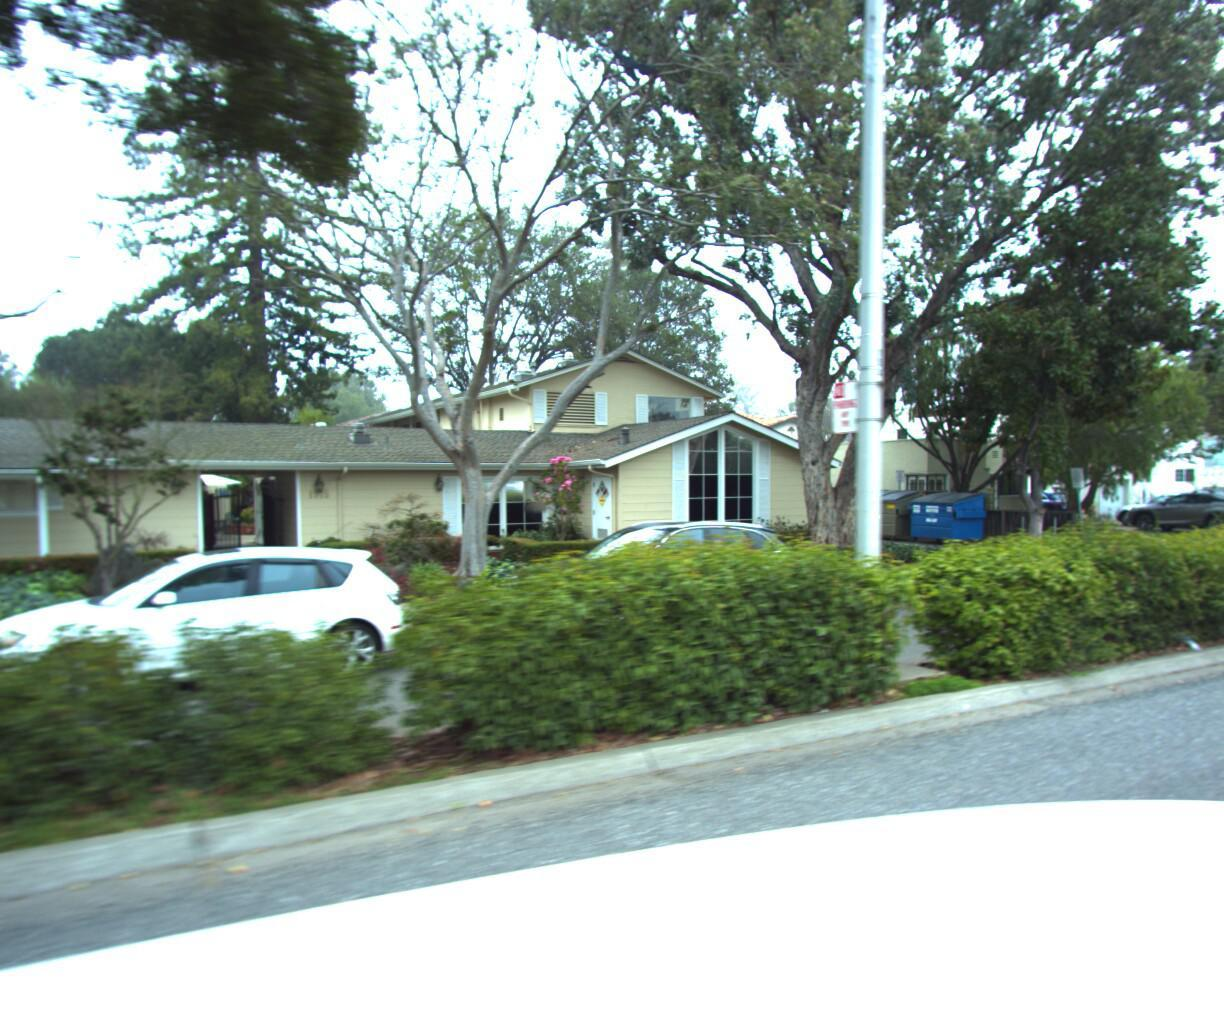car: (477, 513, 827, 668), (1123, 486, 1224, 534), (1107, 485, 1224, 526), (975, 486, 1082, 522)
